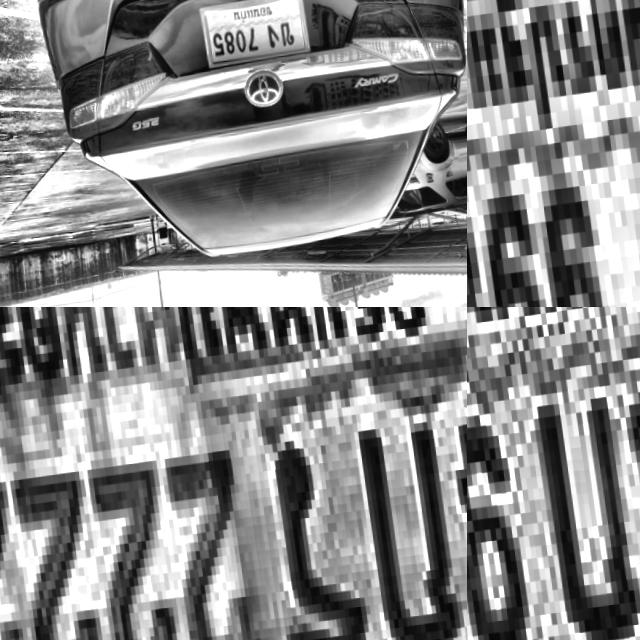license-plate: (0, 307, 467, 640), (467, 307, 640, 640), (467, 0, 640, 307), (190, 0, 307, 77)
